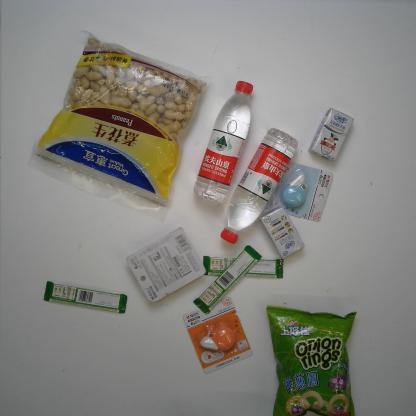Chocolate: (192, 244, 263, 316), (40, 280, 129, 315), (201, 254, 285, 279)
Dried Food: (24, 29, 215, 215)
Drink: (218, 125, 296, 247), (189, 75, 257, 206)
Milk: (307, 107, 354, 162), (259, 208, 306, 261)
Puffed Food: (260, 302, 359, 414)
Stationery: (121, 226, 208, 304), (178, 298, 255, 376), (264, 158, 336, 226)
